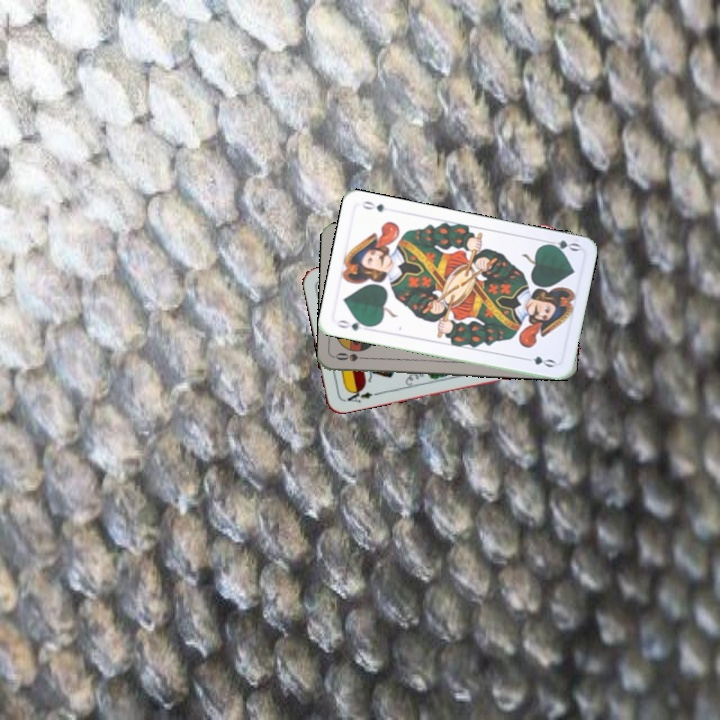EA: (340, 385, 380, 406)
GO: (541, 236, 582, 255), (333, 316, 373, 334)
SO: (332, 349, 372, 364)
